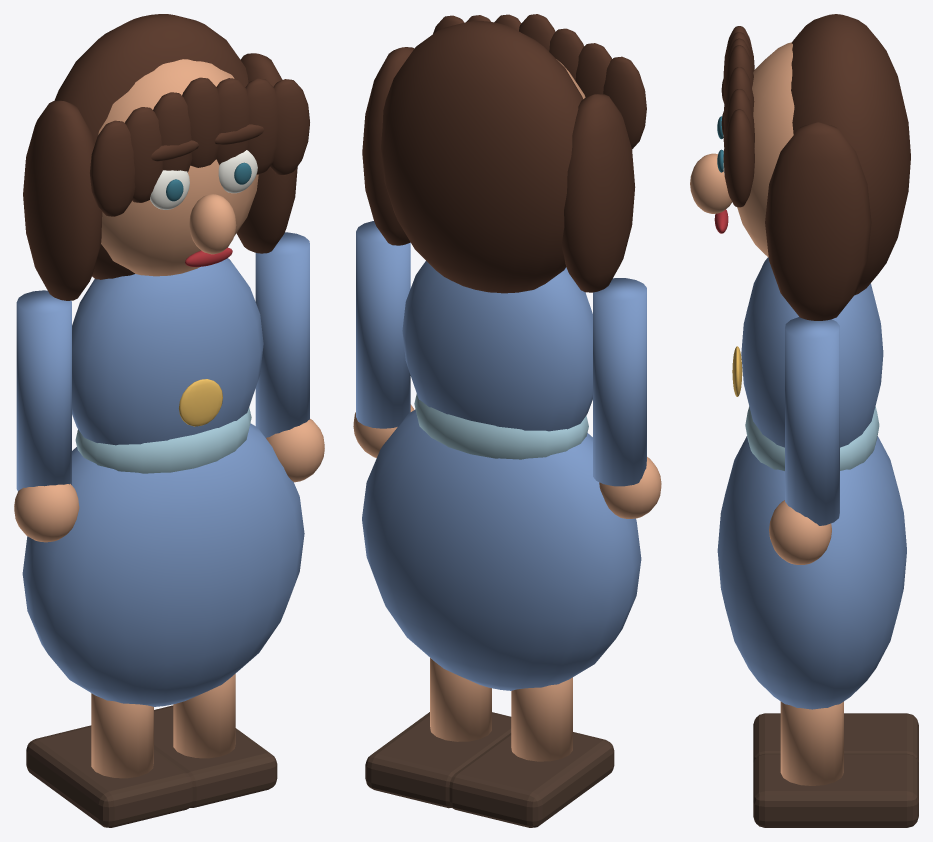
File: guide-custom.glb
3 renders of one model, left to right at view 1: azimuth 30°, elevation 25°; view 2: azimuth 150°, elevation 25°; view 3: azimuth 270°, elevation 25°, orthographic.
Parts seen in each view (by area): view 1: Guide_Skirt, Guide_Torso, Guide_HairSide, Guide_Head, Guide_Arm_L, Guide_HairBack, Guide_Arm_R, Guide_Shoe_L, Guide_Shoe_R, Guide_Waist, Guide_Leg_L, Guide_HairSide.001 (+16 smaller); view 2: Guide_Skirt, Guide_HairBack, Guide_Torso, Guide_HairSide, Guide_Arm_L, Guide_Arm_R, Guide_Shoe_L, Guide_Shoe_R, Guide_Waist, Guide_Leg_L, Guide_HairSide.001, Guide_Leg_R (+6 smaller); view 3: Guide_Skirt, Guide_HairBack, Guide_HairSide.001, Guide_Torso, Guide_Arm_R, Guide_Shoe_R, Guide_Head, Guide_Leg_R, Guide_Shoe_L, Guide_Hand_R, Guide_HairFringe_6, Guide_Waist (+4 smaller).
Part boxes in pixels (left/top/right/bottom): Guide_Skirt: left=22, top=423, right=304, bottom=706; Guide_Torso: left=72, top=258, right=263, bottom=445; Guide_HairSide: left=23, top=100, right=102, bottom=300; Guide_Head: left=98, top=59, right=258, bottom=276; Guide_Arm_L: left=16, top=290, right=71, bottom=491; Guide_HairBack: left=54, top=14, right=248, bottom=279; Guide_Arm_R: left=255, top=232, right=309, bottom=437; Guide_Shoe_L: left=26, top=725, right=192, bottom=827; Guide_Shoe_R: left=154, top=705, right=277, bottom=807; Guide_Waist: left=75, top=407, right=251, bottom=473; Guide_Leg_L: left=91, top=693, right=153, bottom=778; Guide_HairSide.001: left=236, top=53, right=297, bottom=253; Guide_Skirt: left=362, top=409, right=641, bottom=690; Guide_HairBack: left=381, top=21, right=582, bottom=293; Guide_Torso: left=402, top=261, right=592, bottom=431; Guide_HairSide: left=561, top=94, right=635, bottom=292; Guide_Arm_L: left=593, top=278, right=646, bottom=486; Guide_Arm_R: left=356, top=221, right=410, bottom=428; Guide_Shoe_L: left=449, top=732, right=614, bottom=827; Guide_Shoe_R: left=365, top=712, right=511, bottom=808; Guide_Waist: left=414, top=394, right=588, bottom=459; Guide_Leg_L: left=511, top=677, right=572, bottom=761; Guide_HairSide.001: left=362, top=47, right=414, bottom=245; Guide_Leg_R: left=430, top=658, right=491, bottom=741; Guide_Skirt: left=717, top=436, right=906, bottom=709; Guide_HairBack: left=791, top=14, right=910, bottom=294; Guide_HairSide.001: left=765, top=122, right=871, bottom=320; Guide_Torso: left=741, top=257, right=883, bottom=447; Guide_Arm_R: left=785, top=317, right=839, bottom=525; Guide_Shoe_R: left=753, top=753, right=918, bottom=827; Guide_Head: left=737, top=42, right=794, bottom=257; Guide_Leg_R: left=780, top=701, right=843, bottom=785; Guide_Shoe_L: left=753, top=713, right=918, bottom=764; Guide_Hand_R: left=769, top=500, right=831, bottom=564; Guide_HairFringe_6: left=723, top=109, right=754, bottom=207; Guide_Waist: left=745, top=406, right=879, bottom=470.
Size of the model in its own units: 1.78 by 4.28 by 1.16.
